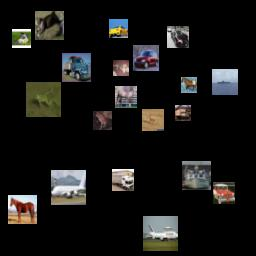airplane: (51, 170, 86, 205), (143, 216, 178, 251)
automobile: (133, 45, 159, 71), (213, 182, 235, 204), (167, 26, 189, 48), (109, 19, 128, 38)
cat: (35, 11, 64, 40)
deer: (142, 109, 164, 131)
dog: (113, 60, 129, 76)
frog: (26, 82, 61, 117), (93, 111, 112, 130)
ship: (182, 161, 211, 190), (212, 69, 238, 95)
truck: (62, 53, 91, 82), (112, 169, 134, 191), (175, 105, 191, 121)
